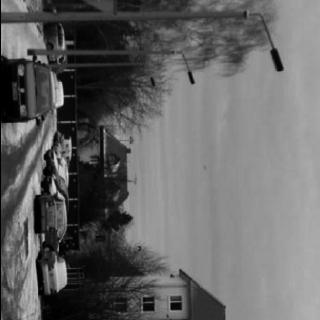Altostratus: (123, 0, 320, 320)
